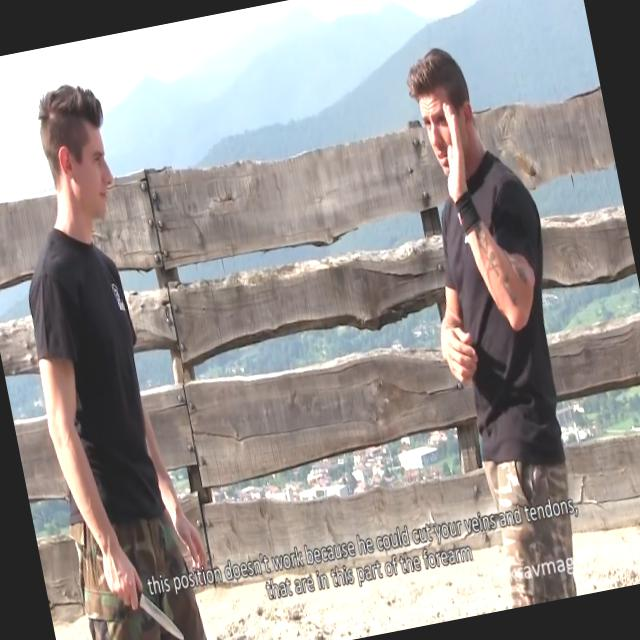knife: (98, 550, 191, 639)
